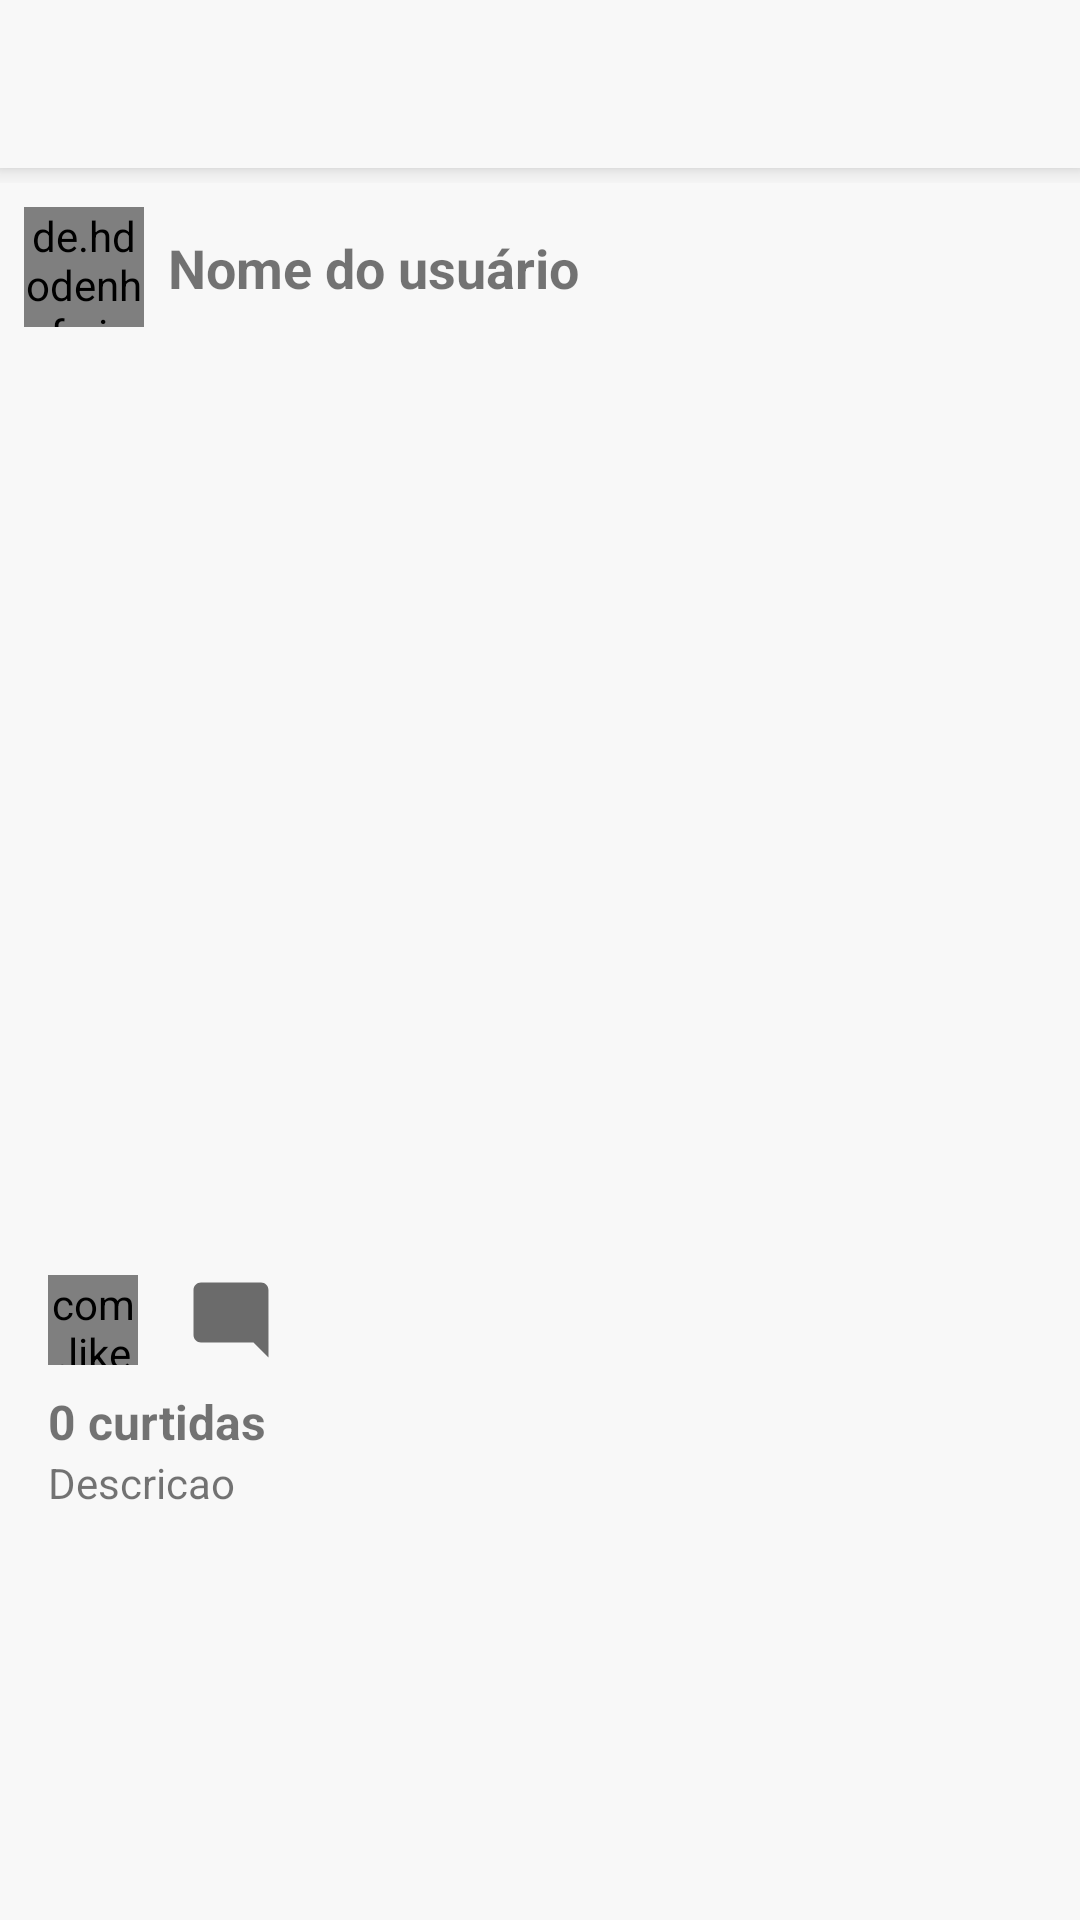

Point at icon controls on the screen. Image size 1080x1920, points as (x,y).
comentario: (231,1319)
